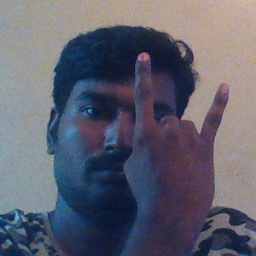V: (119, 49, 235, 216)
